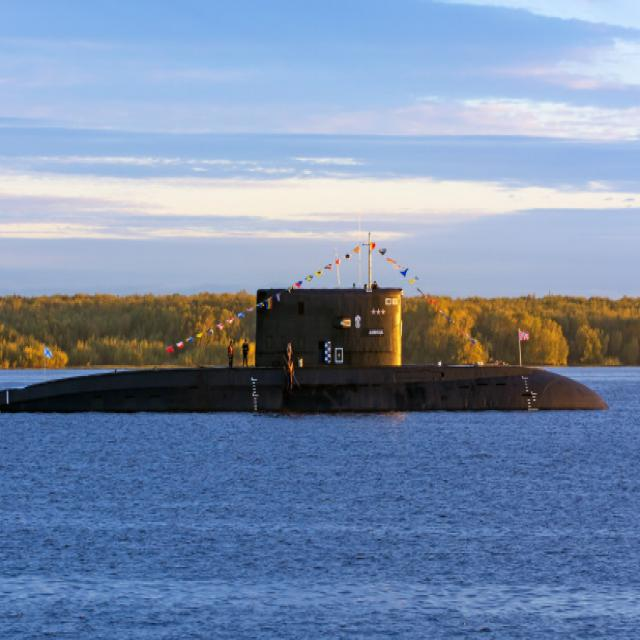submarine: (1, 259, 618, 411)
